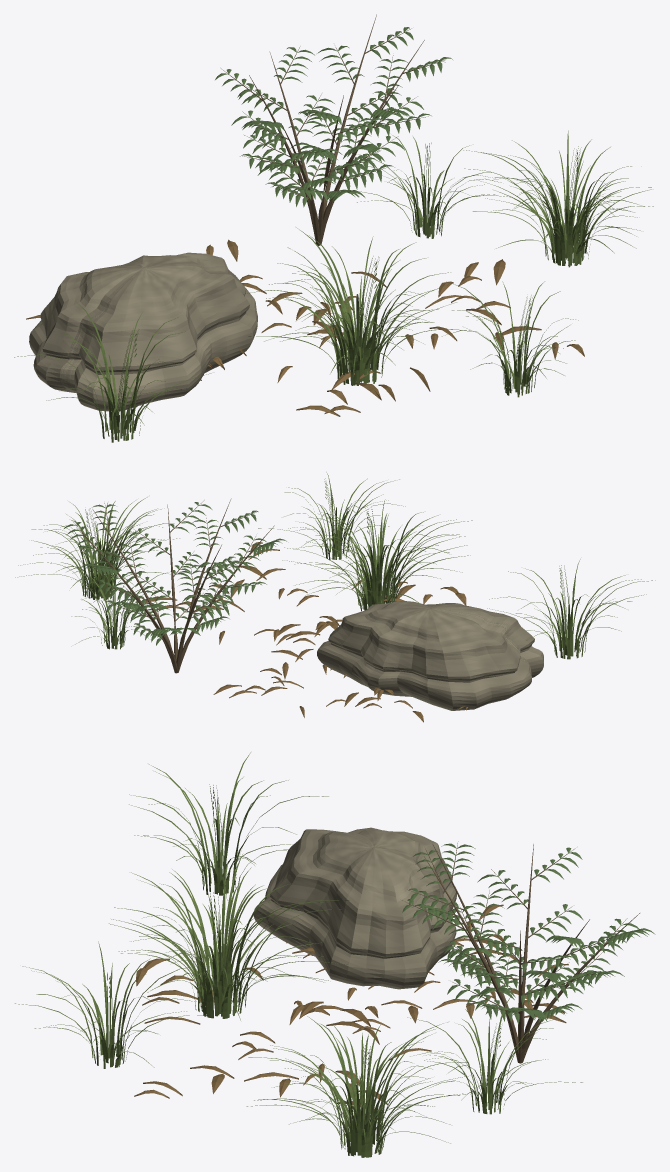
File: understorey-study.glb
The picture shows the model from 3 angles, top to bottom: view 1: azimuth 30°, elevation 25°; view 2: azimuth 150°, elevation 25°; view 3: azimuth 270°, elevation 25°; orthographic projection. The views are drawn at different scales.
Visible parts, largest first — view 1: bank-rock-near-0, shrub-leaves-0, grass-near-0, grass-near-1, shrub-branches-0, grass-mid-1, leaf-litter-0, grass-mid-2, grass-mid-0, leaf-litter-1; view 2: bank-rock-near-0, shrub-leaves-0, grass-near-0, grass-near-1, shrub-branches-0, grass-mid-1, leaf-litter-0, grass-mid-2, leaf-litter-1, grass-mid-0; view 3: bank-rock-near-0, shrub-leaves-0, grass-near-0, grass-near-1, shrub-branches-0, leaf-litter-0, grass-mid-1, grass-mid-2, grass-mid-0, leaf-litter-1.
Boxes of the visible parts, box(x1,y1,x2,y2) form: bank-rock-near-0: box(29, 252, 257, 411); shrub-leaves-0: box(215, 27, 452, 207); grass-near-0: box(243, 227, 470, 385); grass-near-1: box(463, 130, 653, 267); shrub-branches-0: box(221, 14, 444, 245); grass-mid-1: box(14, 301, 211, 442); leaf-litter-0: box(213, 259, 584, 416); grass-mid-2: box(442, 281, 578, 397); grass-mid-0: box(356, 135, 510, 238); leaf-litter-1: box(26, 239, 352, 380); bank-rock-near-0: box(317, 601, 543, 710); shrub-leaves-0: box(64, 502, 286, 645); grass-near-0: box(282, 499, 472, 611); grass-near-1: box(15, 497, 185, 600); shrub-branches-0: box(72, 498, 277, 673); grass-mid-1: box(487, 559, 655, 659); leaf-litter-0: box(145, 542, 466, 644); grass-mid-2: box(258, 472, 405, 559); leaf-litter-1: box(213, 629, 468, 722); grass-mid-0: box(71, 561, 170, 649); bank-rock-near-0: box(253, 827, 456, 989); shrub-leaves-0: box(402, 843, 655, 1024); grass-near-0: box(109, 854, 348, 1020); grass-near-1: box(246, 1016, 470, 1157); shrub-branches-0: box(402, 841, 640, 1063); leaf-litter-0: box(134, 947, 431, 1110); grass-mid-1: box(129, 752, 328, 900); grass-mid-2: box(15, 941, 208, 1068); grass-mid-0: box(407, 997, 582, 1114); leaf-litter-1: box(286, 904, 568, 1033).
Bounding box in the file's own units: 5.24 × 1.46 × 4.06.
6 materials, 6 textured.
